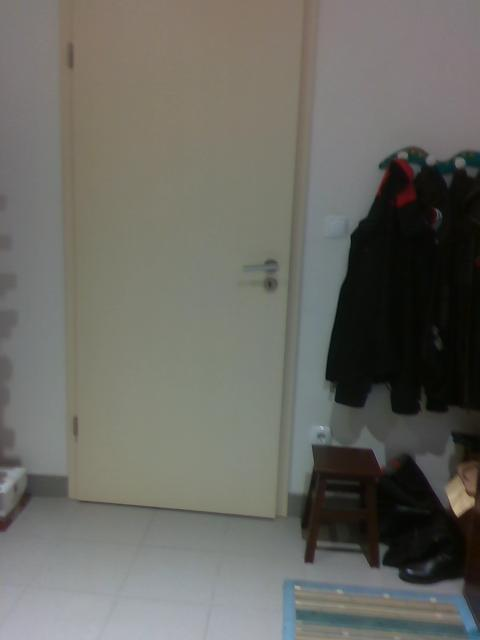door: (75, 1, 305, 527)
